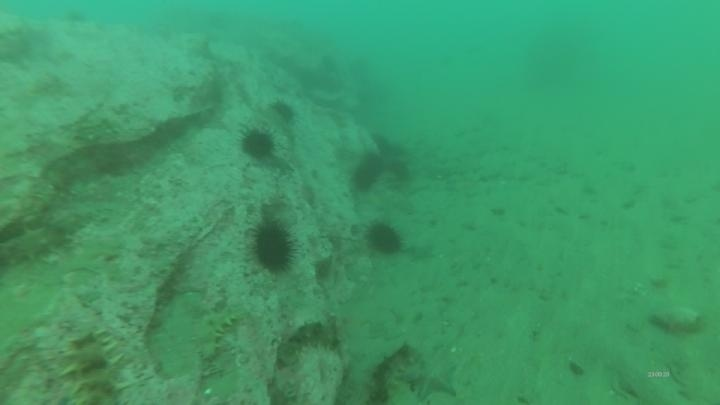echinus: (248, 218, 299, 276), (364, 212, 413, 258), (238, 126, 278, 162), (268, 97, 299, 126), (384, 154, 413, 185), (352, 164, 378, 194), (361, 151, 386, 173)
holothurian: (60, 327, 128, 403), (1, 212, 90, 270), (365, 341, 419, 405), (276, 316, 343, 367), (192, 303, 243, 364)
starfish: (400, 356, 462, 402)
